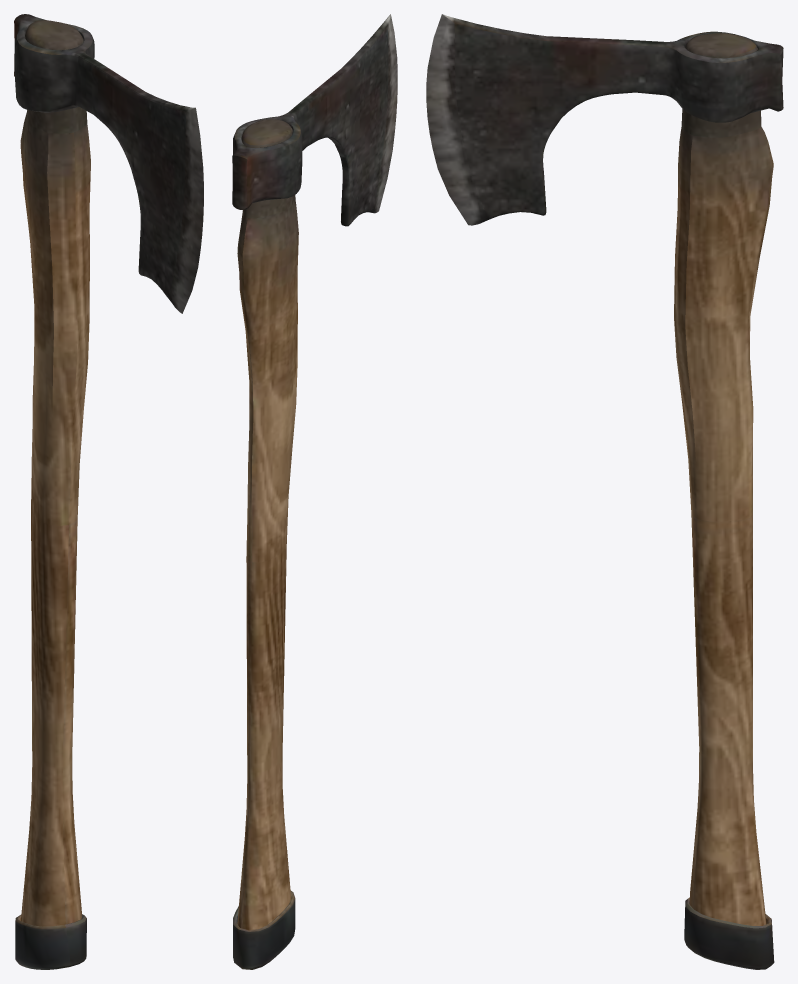
The model's file is wooden_axe.glb.
3 renders of one model, left to right at view 1: azimuth 30°, elevation 25°; view 2: azimuth 150°, elevation 25°; view 3: azimuth 270°, elevation 25°, orthographic. The views are drawn at different scales.
Visible parts, largest first — view 1: wooden_axe_lod0; view 2: wooden_axe_lod0; view 3: wooden_axe_lod0.
Boxes of the visible parts, x1,y1,x2,y2 form: wooden_axe_lod0: [14, 14, 203, 969]; wooden_axe_lod0: [232, 14, 397, 969]; wooden_axe_lod0: [426, 14, 783, 969].
Size of what is drawn, in the model's own units: 0.0472 by 0.6304 by 0.2144.
Materials: 1 (1 with a texture image).
